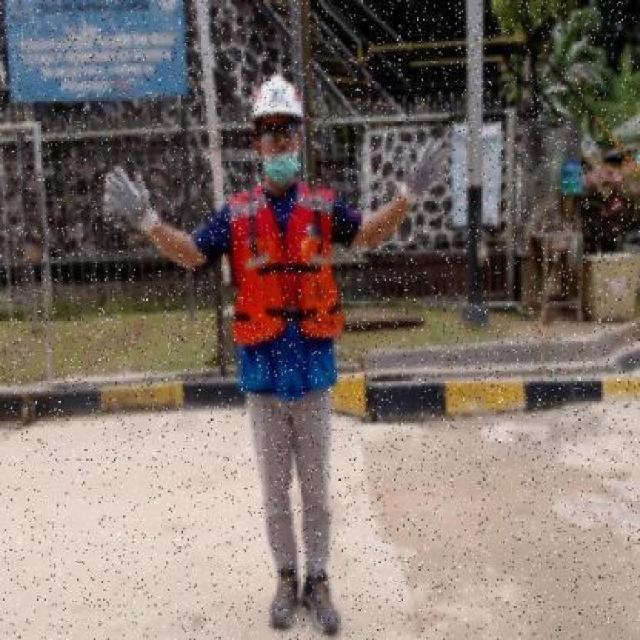Boots: (300, 570, 342, 639), (268, 567, 301, 633)
Gloves: (102, 165, 160, 241), (399, 136, 450, 210)
Helmet: (253, 73, 304, 122)
Mask: (264, 154, 299, 188)
Protective Glasses: (261, 122, 301, 142)
Vest: (231, 234, 344, 348)
